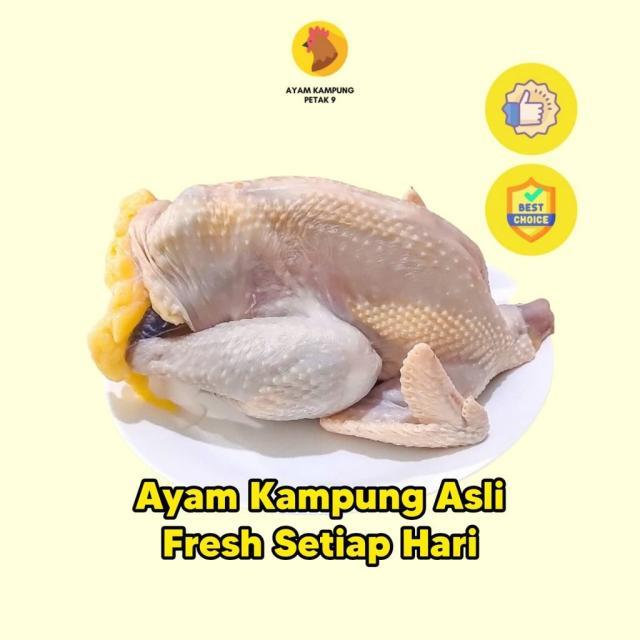Chicken: (85, 156, 578, 477)
